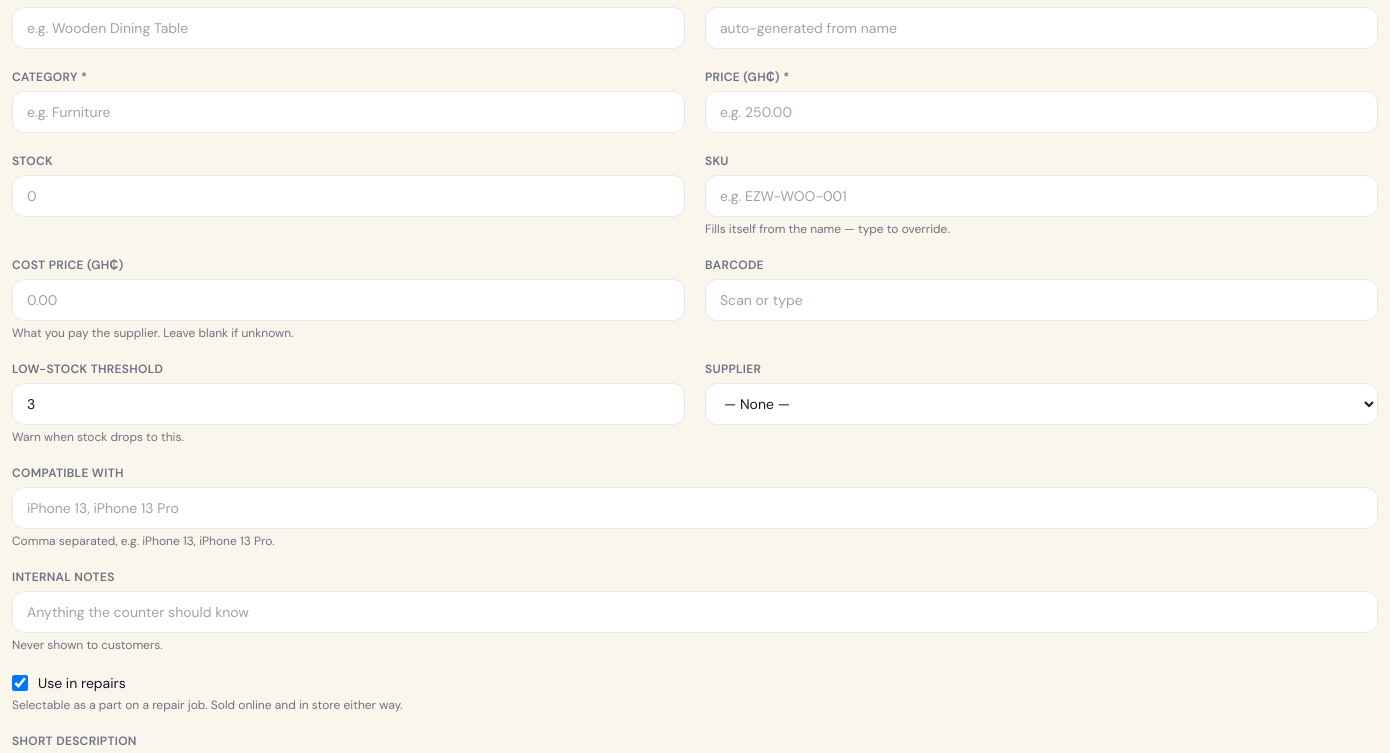
Test: ProductForm — automatic SKU fill › fills a variant's SKU from its attributes once the parent SKU exists
The image size is (1390, 753).
Step 1. Type "Wooden Dining Table" into the field with placeholder "e.g. Wooden Dining Table" → coordinates (348, 28), box [12,7,685,49]
(page scrolled)
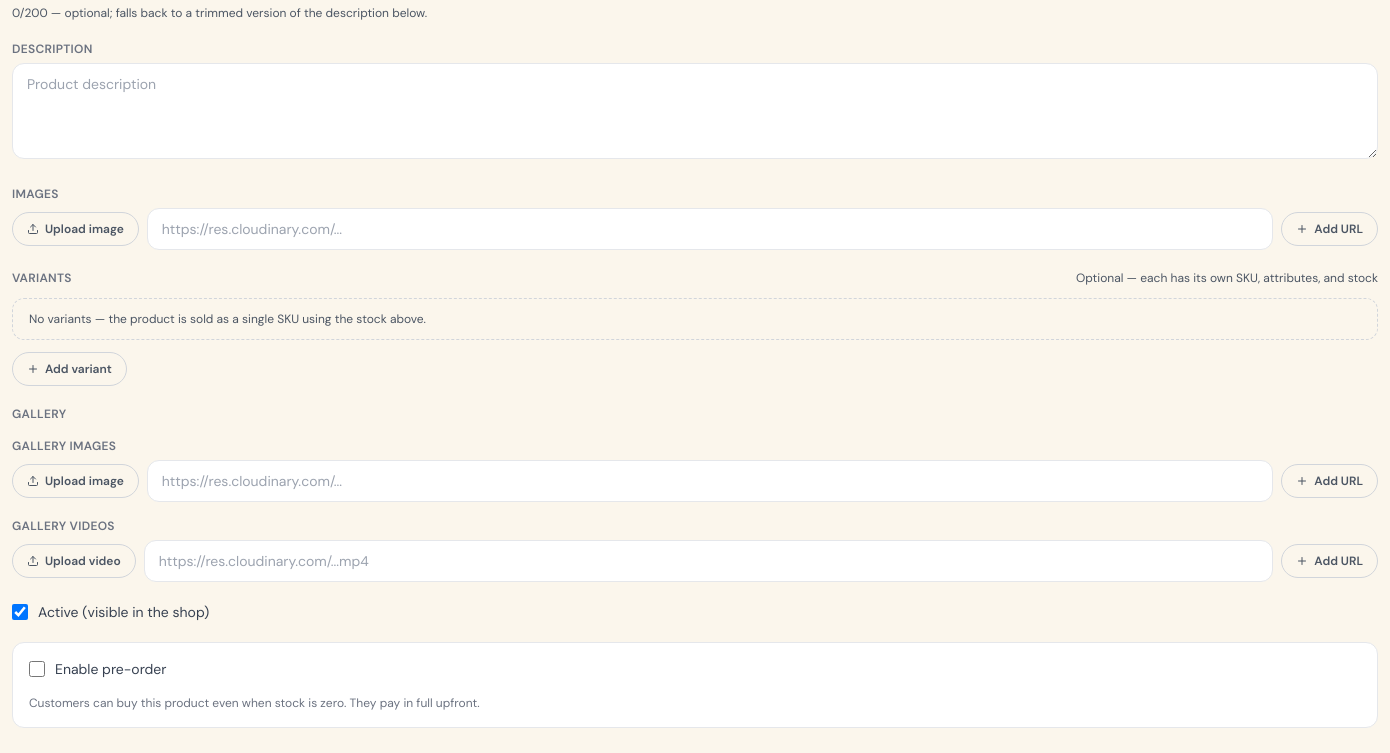
Step 2. Click the button "Add variant" → coordinates (69, 369), box [12,352,127,386]
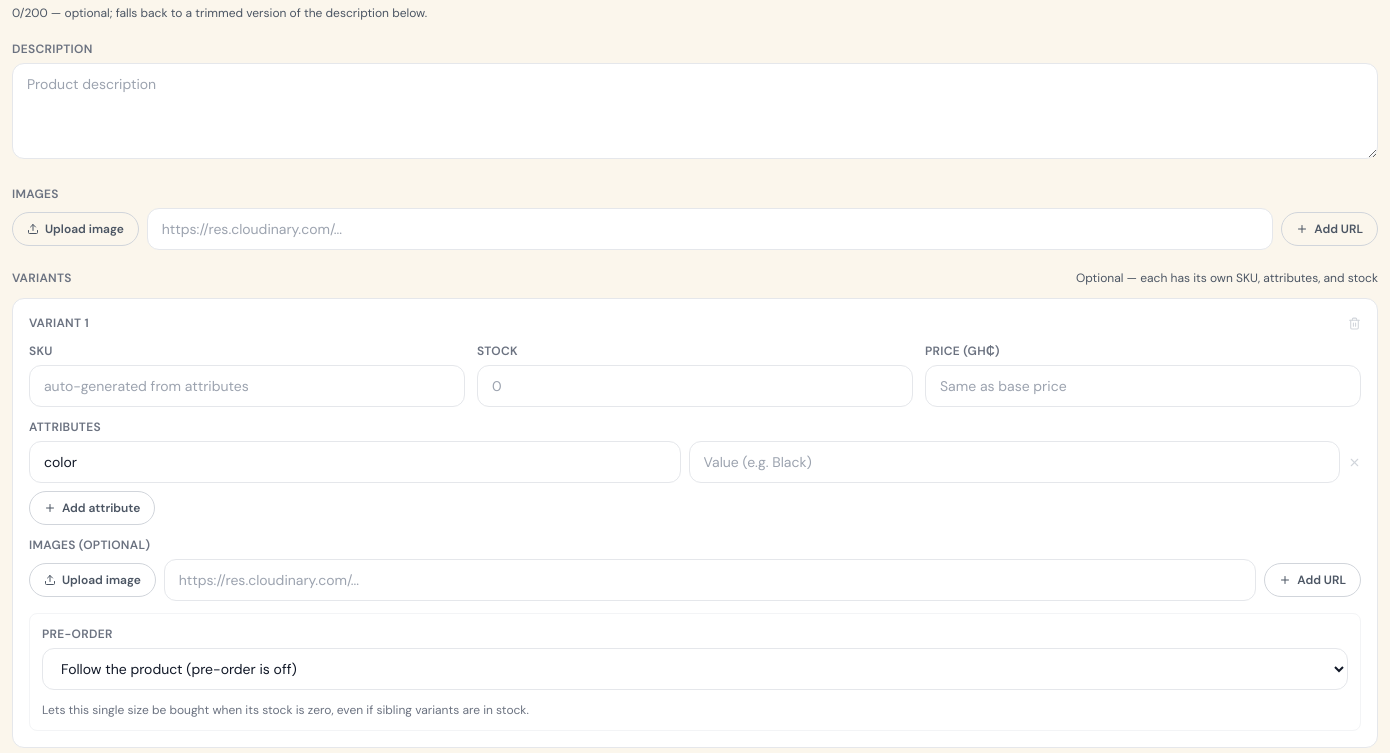
Step 3. Type "Black" into the field with placeholder "Value (e.g. Black)" → coordinates (1014, 462), box [688,441,1340,483]
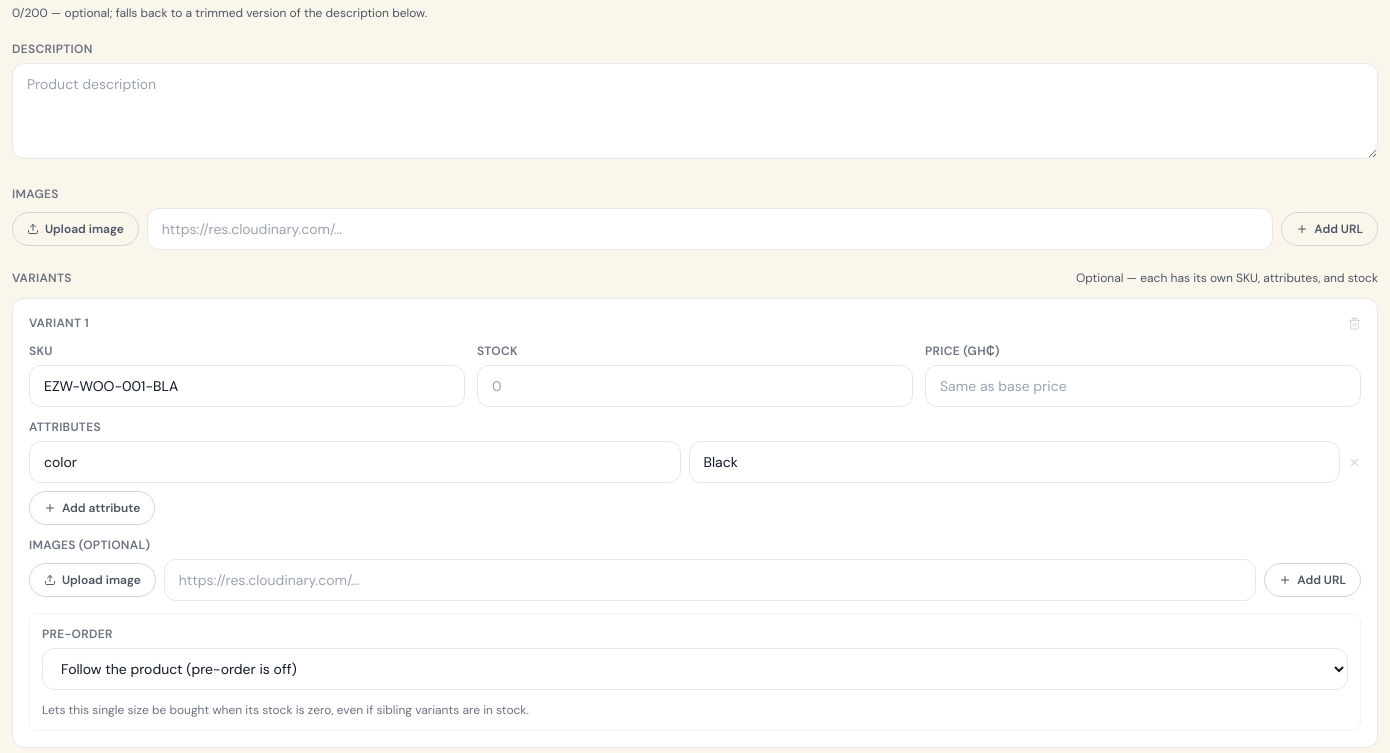
Result: the field with placeholder "auto-generated from attributes" holds "EZW-WOO-001-BLA" at [29,365,465,407]
